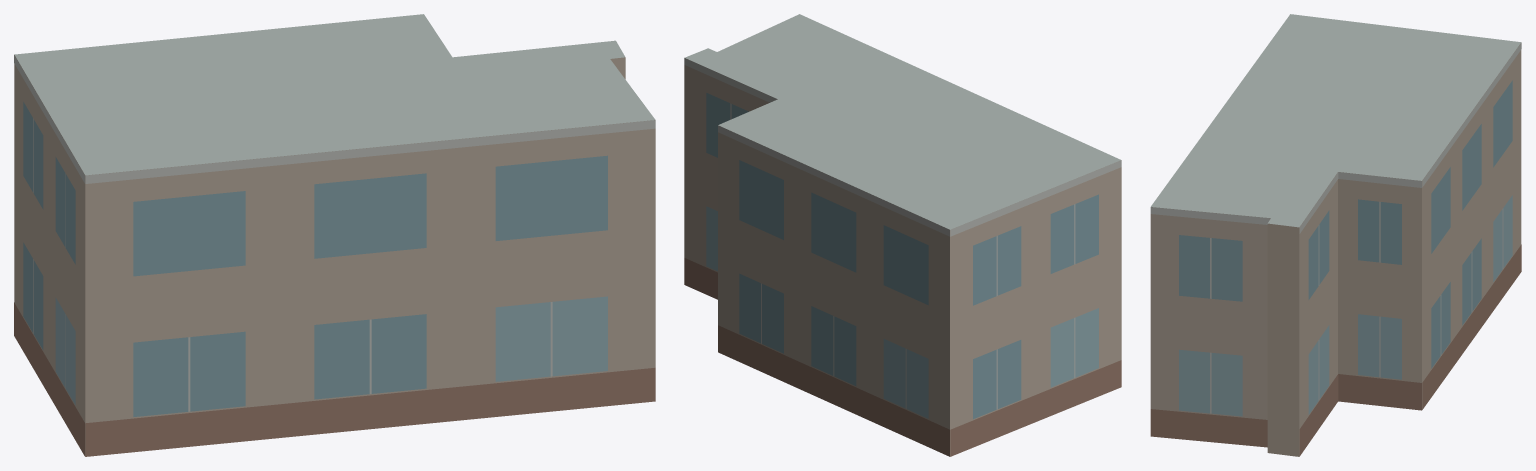
Rendered from survey-upis-32868351.glb.
3 views of the same model, side by side, from view 1: azimuth 30°, elevation 25°; view 2: azimuth 150°, elevation 25°; view 3: azimuth 270°, elevation 25° (orthographic). The views are drawn at different scales.
Visible parts, largest first — view 1: survey-upis-32868351.tmp; view 2: survey-upis-32868351.tmp; view 3: survey-upis-32868351.tmp.
Boxes of the visible parts, bbox=[...] form: survey-upis-32868351.tmp: bbox=[14, 14, 655, 456]; survey-upis-32868351.tmp: bbox=[684, 14, 1121, 456]; survey-upis-32868351.tmp: bbox=[1150, 14, 1521, 456].
Bounding box in the file's own units: 15.76 × 7.9 × 11.58.
